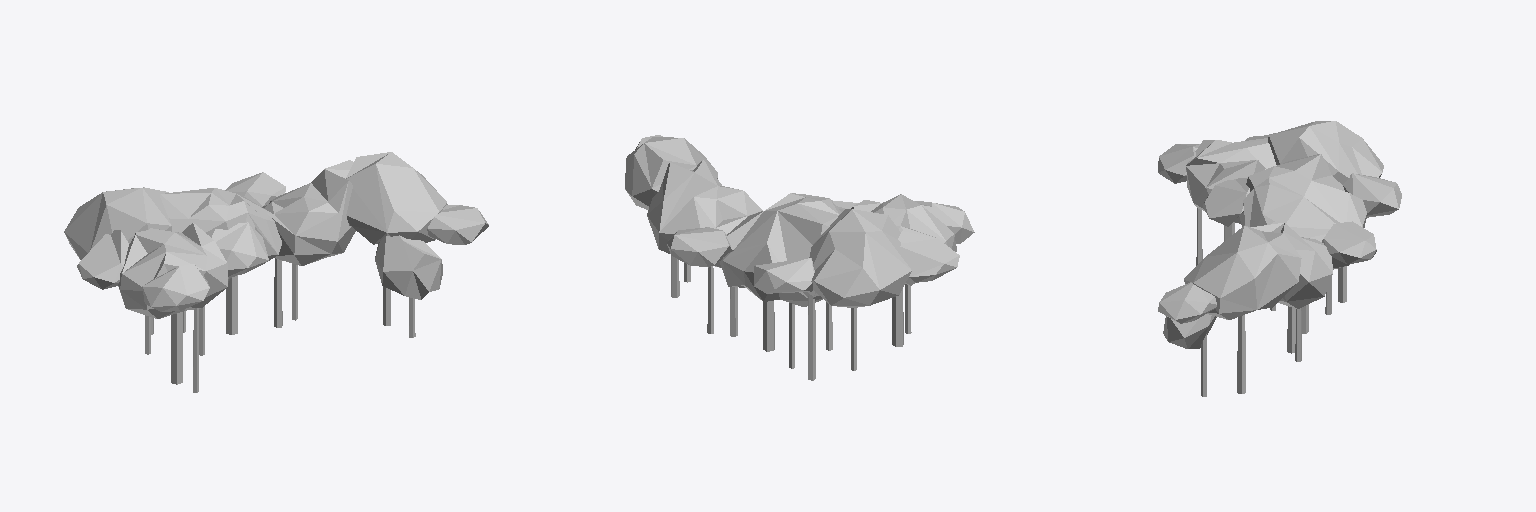
Rendered from SM_Generic_Tree_Patch_02.obj.
3 renders of one model, left to right at view 1: azimuth 30°, elevation 25°; view 2: azimuth 150°, elevation 25°; view 3: azimuth 270°, elevation 25°, orthographic.
Bounding box in the file's own units: 2465 × 1063 × 1442.